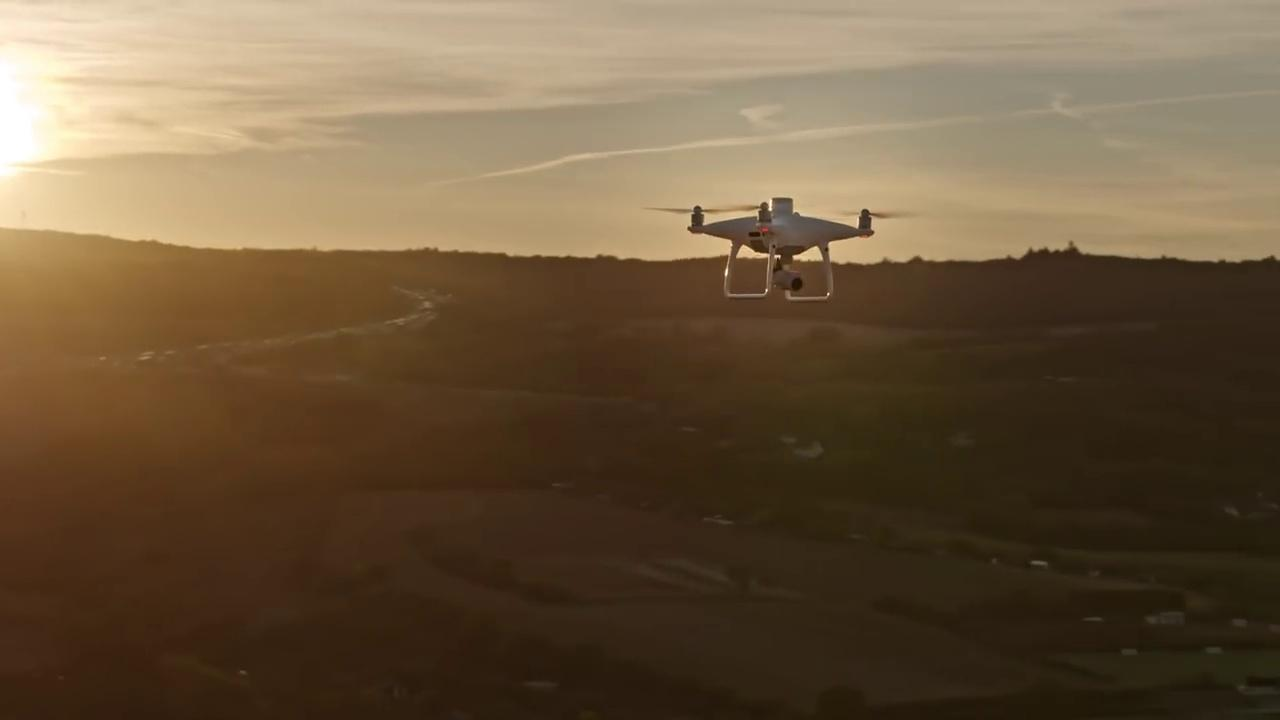drone: (639, 194, 922, 301)
